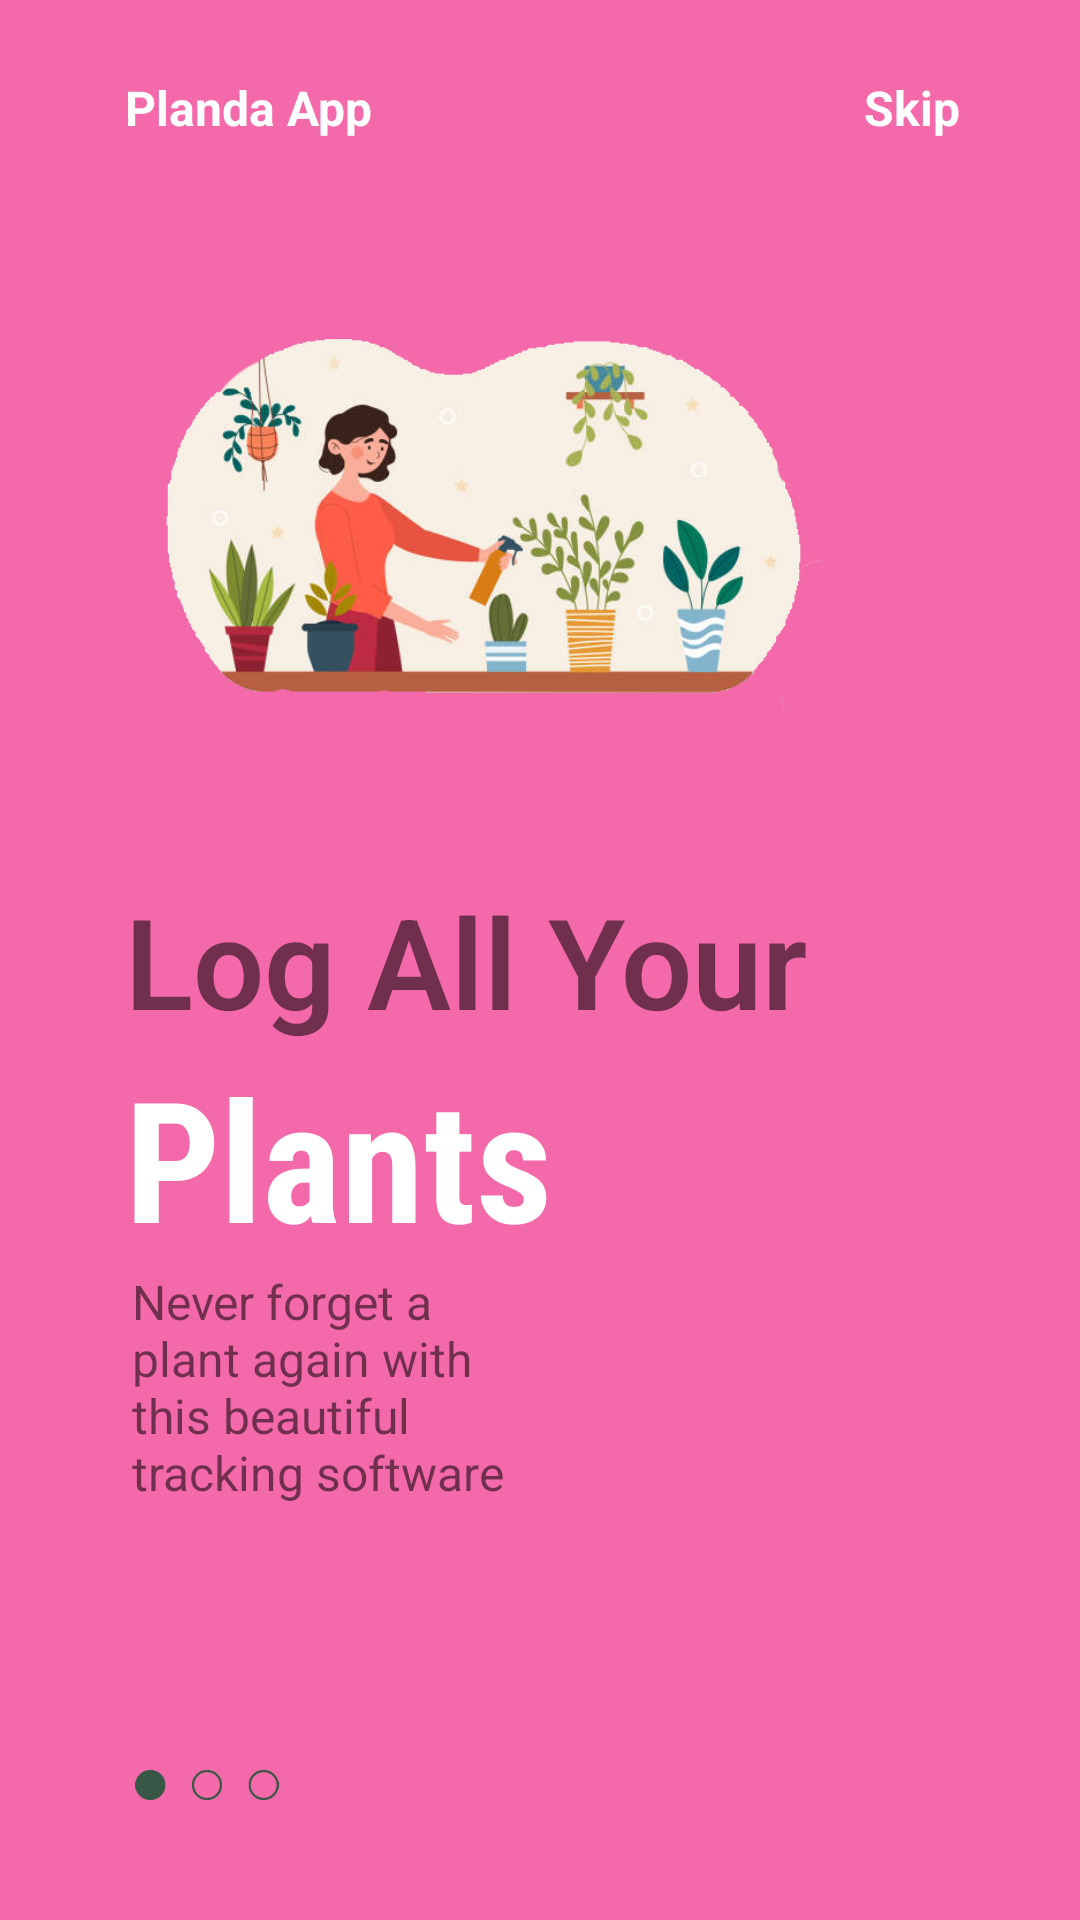

Named icons in this screenshot (1080x1920) and their centers, (x,y):
tab: (207,1785)
